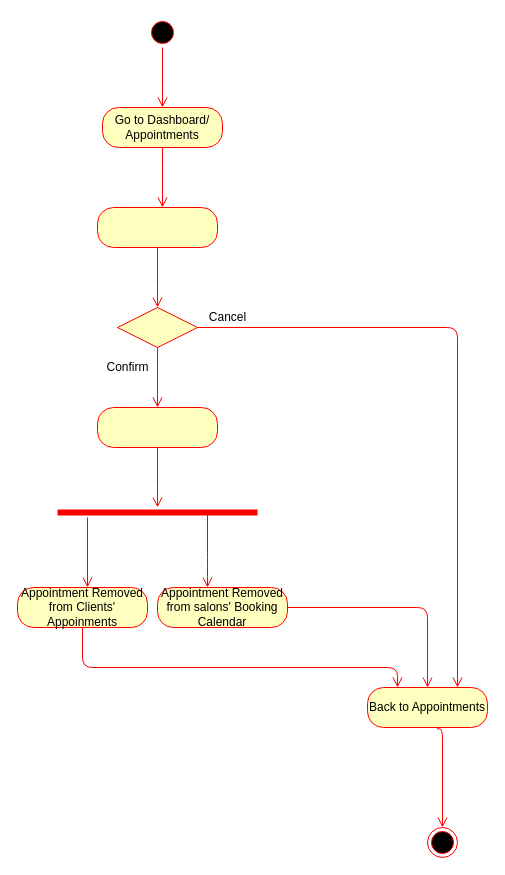
Image size: 505x875. Some labels were removed from this diagram. Here are the shapes that lost their labels. From the top down, the centre of each, then its label:
point 157,227: Select Appointment to be Deleted
point 157,427: Appointments is Cancelled
